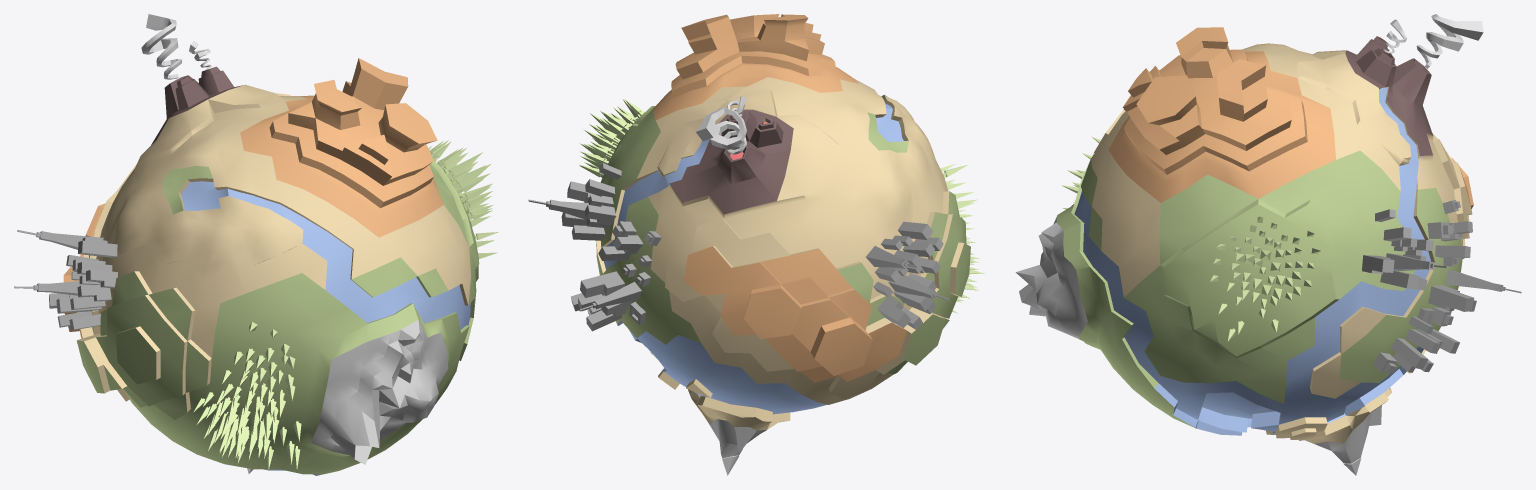
Rendered from earth.glb.
3 renders of one model, left to right at view 1: azimuth 30°, elevation 25°; view 2: azimuth 150°, elevation 25°; view 3: azimuth 270°, elevation 25°, orthographic. The views are drawn at different scales.
Visible parts, largest first — view 1: 003_Ground, 004_Water, 008_Rocky_Mountains, 006_Mountains, 012_Forest, 005_Grass, 011_City, 009_Volcano, 013_Smoke; view 2: 003_Ground, 008_Rocky_Mountains, 011_City, 004_Water, 005_Grass, 009_Volcano, 012_Forest, 013_Smoke, 006_Mountains; view 3: 004_Water, 008_Rocky_Mountains, 003_Ground, 005_Grass, 011_City, 006_Mountains, 009_Volcano, 012_Forest, 013_Smoke.
Part boxes in pixels (x1,y1,x2,y2): 003_Ground: (76,77,471,412); 004_Water: (76,159,479,475); 008_Rocky_Mountains: (63,58,443,338); 006_Mountains: (311,320,448,464); 012_Forest: (193,140,498,470); 005_Grass: (181,181,470,475); 011_City: (14,230,117,330); 009_Volcano: (151,66,242,144); 013_Smoke: (141,14,211,79); 003_Ground: (596,77,964,430); 008_Rocky_Mountains: (653,14,906,382); 011_City: (528,163,949,331); 004_Water: (597,106,970,374); 005_Grass: (601,97,903,414); 009_Volcano: (670,109,793,214); 012_Forest: (579,98,985,313); 013_Smoke: (696,96,746,154); 006_Mountains: (710,419,766,458); 004_Water: (1056,150,1462,428); 008_Rocky_Mountains: (1108,27,1473,209); 003_Ground: (1091,43,1472,443); 005_Grass: (1074,87,1430,435); 011_City: (1362,199,1521,373); 006_Mountains: (1015,216,1381,463); 009_Volcano: (1345,36,1433,155); 012_Forest: (1062,136,1320,341); 013_Smoke: (1383,14,1483,68).
Bounding box in the file's own units: 190 × 183 × 187.
